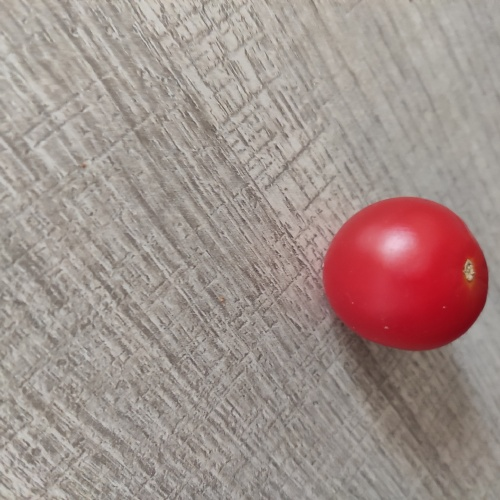pomodoro: (320, 195, 492, 362)
